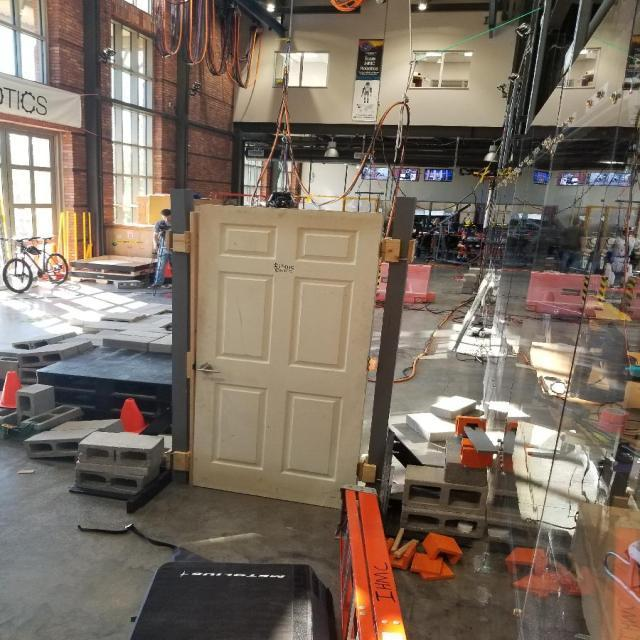door: (187, 201, 386, 517), (198, 362, 224, 374)
